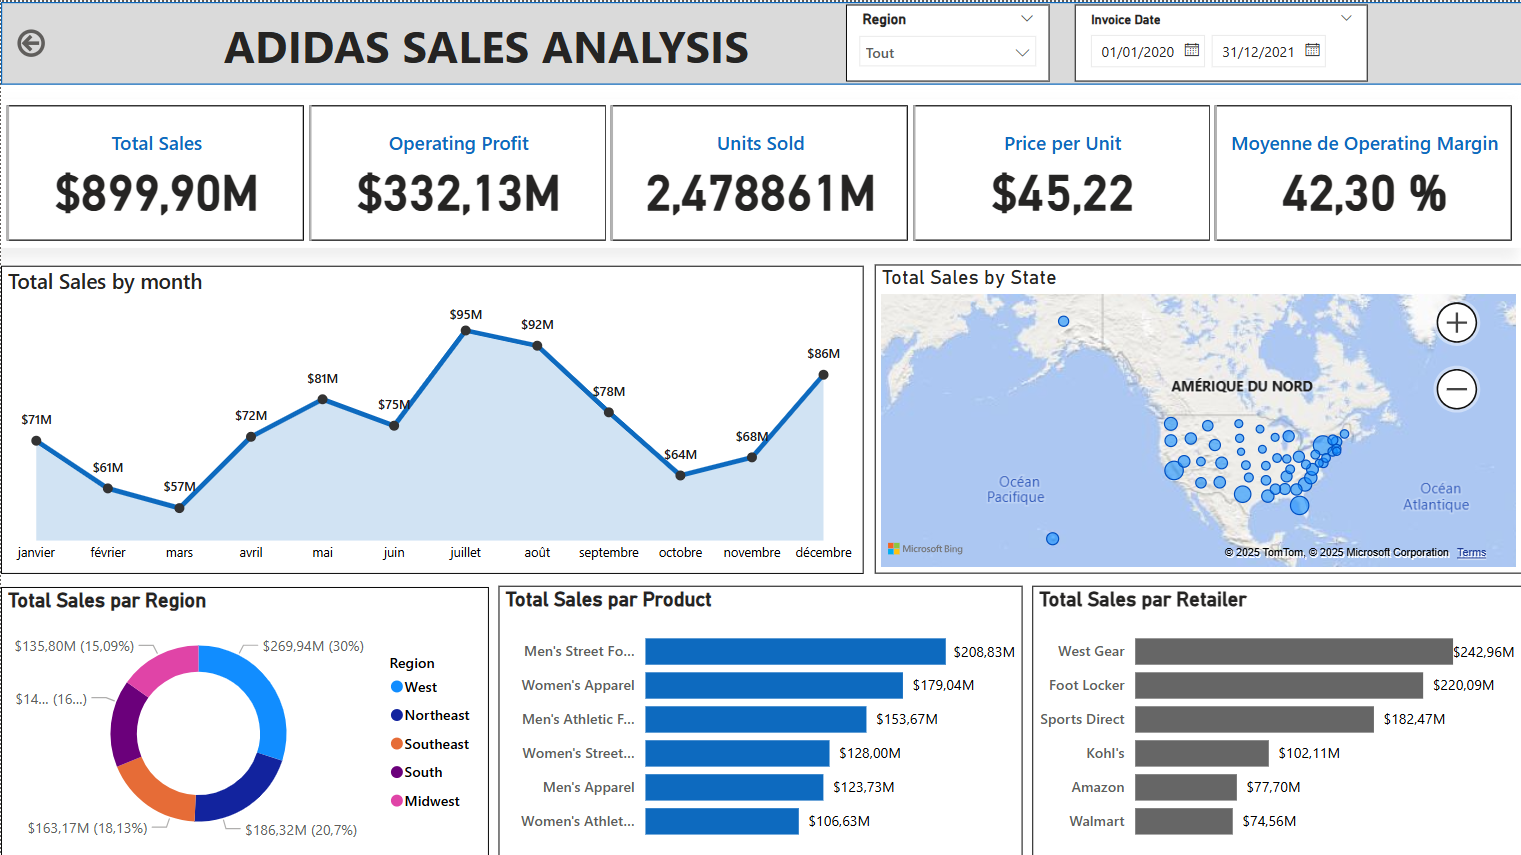

Layout of this report page (visuals, bound fields, positions):
{"tool":"powerbi","page":{"name":"adidas work sales","canvas":[1280,720],"ordinal":1},"visuals":[{"type":"shape","box":[0,0,1280,69.6],"z":0},{"type":"textbox","box":[176.6,5.9,463.4,64],"z":1000},{"type":"cardVisual","fields":{"Data":["Sum(Data Sales Adidas.Total Sales)","Sum(Data Sales Adidas.Operating Profit)","Sum(Data Sales Adidas.Units Sold)","Avg(Data Sales Adidas.Price per Unit)","Avg(Data Sales Adidas.Operating Margin)"]},"box":[0,81.8,1280,124.4],"z":2000},{"type":"areaChart","title":"Total Sales by month","fields":{"Category":["Data Sales Adidas.Invoice Date.Variation.Hiérarchie de dates.Mois"],"Y":["Sum(Data Sales Adidas.Total Sales)"]},"box":[0,221.6,725.3,259.6],"z":3000},{"type":"map","title":" Total Sales by  State","fields":{"Category":["Data Sales Adidas.State"],"Y":["Avg(Data Sales Adidas.Total Sales)"],"Size":["Sum(Data Sales Adidas.Total Sales)"]},"box":[734.4,221.1,545.6,260],"z":4000},{"type":"donutChart","title":"Total Sales par Region","fields":{"Category":["Data Sales Adidas.Region"],"Y":["Sum(Data Sales Adidas.Total Sales)"]},"box":[0,492,410,228],"z":5000},{"type":"barChart","title":"Total Sales par Product","fields":{"Category":["Data Sales Adidas.Product"],"Y":["Sum(Data Sales Adidas.Total Sales)"]},"box":[418.9,491.1,441.1,227.8],"z":6000},{"type":"barChart","title":"Total Sales par Retailer","fields":{"Y":["Sum(Data Sales Adidas.Total Sales)"],"Category":["Data Sales Adidas.Retailer"]},"box":[867.8,491.1,412.2,227.8],"z":7000},{"type":"slicer","fields":{"Values":["Data Sales Adidas.Region"]},"box":[711.1,2.2,171.1,64.4],"z":8000},{"type":"slicer","fields":{"Values":["Data Sales Adidas.Invoice Date"]},"box":[903.3,2.2,246.7,64.4],"z":9000},{"type":"actionButton","box":[9.1,14.8,31.8,39.8],"z":10000}]}

Visuals, with their boxes in screenshot pixels (x1, y1, x2, y2), scaled from the page's 1280x720 canvas onto the 1521x855 screenshot:
shape: [0, 0, 1520, 83]
textbox: [210, 7, 760, 83]
cardVisual - Sum(Data Sales Adidas.Total Sales) x Sum(Data Sales Adidas.Operating Profit): [0, 97, 1520, 245]
"Total Sales by month" areaChart: [0, 263, 862, 571]
" Total Sales by  State" map: [873, 263, 1520, 571]
"Total Sales par Region" donutChart: [0, 584, 487, 854]
"Total Sales par Product" barChart: [498, 583, 1022, 854]
"Total Sales par Retailer" barChart: [1031, 583, 1520, 854]
slicer - Data Sales Adidas.Region: [845, 3, 1048, 79]
slicer - Data Sales Adidas.Invoice Date: [1073, 3, 1367, 79]
actionButton: [11, 18, 49, 65]
